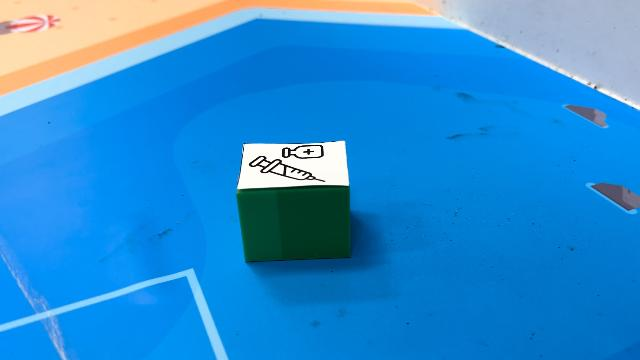syringe: (235, 142, 355, 264)
